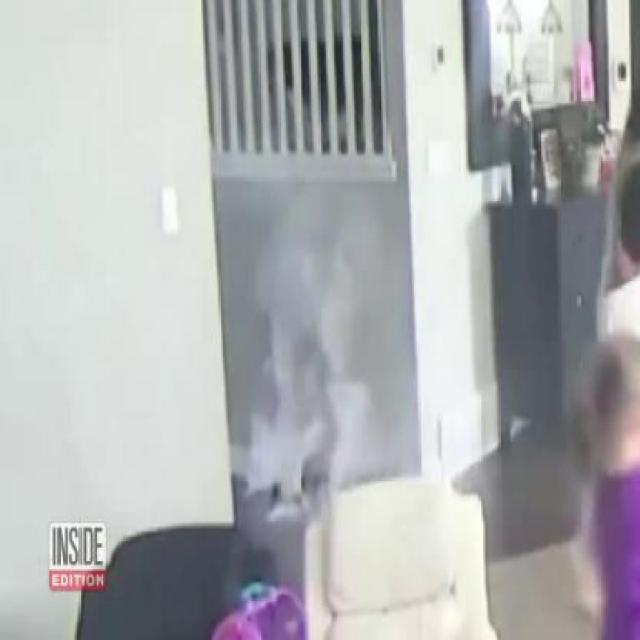smoke: (222, 226, 413, 514)
